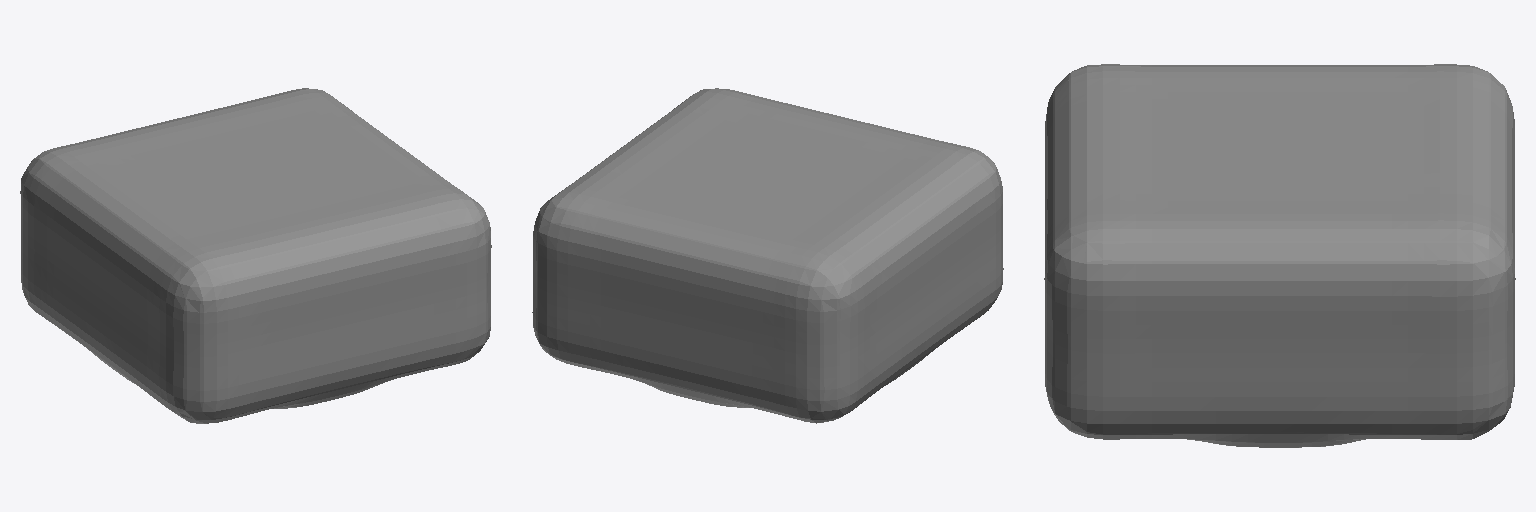
robot.urdf — cube.urdf:
<?xml version="0.0" ?> 
<robot name="cube.urdf"> 
<link name="legobrick"> 
<contact> 
<lateral_friction value="5.0"/> 
<rolling_friction value="0.0"/> 
<contact_cfm value="0.0"/> 
<contact_erp value="1.0"/> 
</contact> 
<inertial> 
<origin rpy="0 0 0" xyz="0.0 0.0 0.0"/> 
<mass value=".01"/> 
<inertia ixx="1" ixy="0" ixz="0" iyy="1" iyz="0" izz="1"/> 
</inertial> 
<visual> 
<origin rpy="1.570796 0 0" xyz="-0.02584527099771074 0.025845423624616733 -0.038754721228092544"/> 
<geometry> 
<mesh filename="Q02_3.obj" scale="0.0005600054430289042 0.0005600054430289042 0.0005600054430289042"/> 
</geometry> 
<material name="yellow"> 
<color rgba="0.6 0.6 0.6 1"/> 
</material> 
</visual> 
<collision> 
<origin rpy="1.570796 0 0" xyz="-0.02584527099771074 0.025845423624616733 -0.038754721228092544"/> 
<geometry> 
<mesh filename="Q02_3.obj" scale="0.0005600054430289042 0.0005600054430289042 0.0005600054430289042"/> 
</geometry> 
</collision> 
</link> 
</robot>

--- Render facts (derived) ---
Views: 3 orthographic renders of the robot side by side, from view 1: azimuth 30°, elevation 25°; view 2: azimuth 150°, elevation 25°; view 3: azimuth 270°, elevation 25°.
Model cube.urdf with 1 links and 0 joints (none), rooted at legobrick, posed every joint at zero.
Visible links, largest first — view 1: legobrick; view 2: legobrick; view 3: legobrick.
Link boxes in pixels (<box>): legobrick: <box>20,88,491,423</box>; legobrick: <box>532,88,1003,423</box>; legobrick: <box>1044,64,1515,447</box>.
Size in the robot's own frame: 0.056 by 0.056 by 0.0323 metres.
Meshes: 1 distinct files referenced, 1 mesh visuals loaded (1 OBJ).
